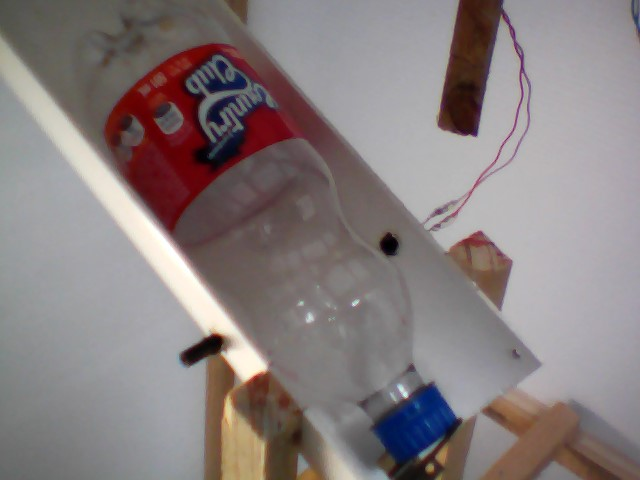plastico: (59, 1, 456, 474)
